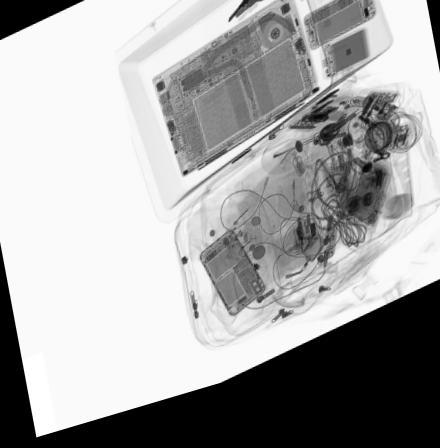Powerbank: (316, 45, 372, 101)
